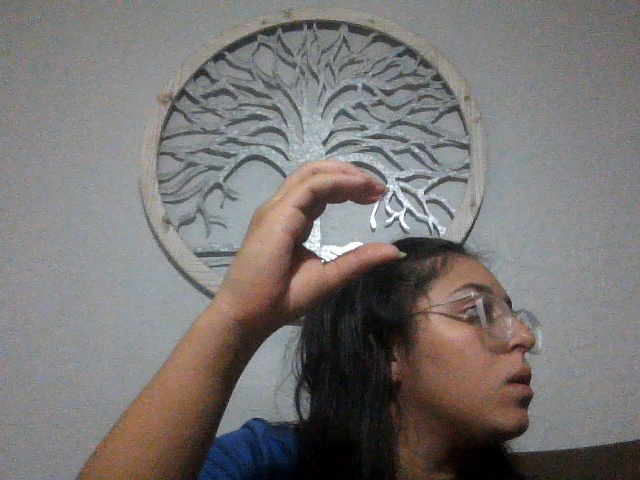C: (208, 150, 441, 356)
